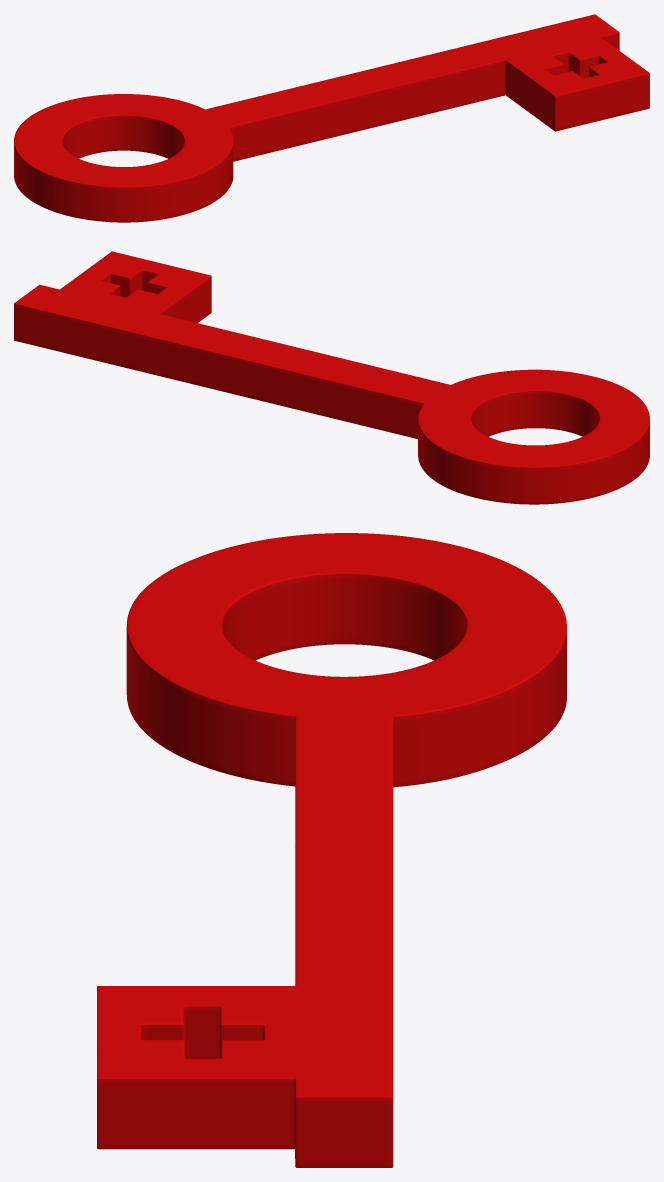
The picture shows the model from 3 angles, top to bottom: view 1: azimuth 30°, elevation 25°; view 2: azimuth 150°, elevation 25°; view 3: azimuth 270°, elevation 25°; orthographic projection. The views are drawn at different scales.
Parts seen in each view (by area): view 1: Curve.001; view 2: Curve.001; view 3: Curve.001.
Part boxes in pixels (x1,y1,x2,y2): Curve.001: (14,14,649,222); Curve.001: (14,251,649,504); Curve.001: (97,533,566,1167).
Bounding box in the file's own units: 1.03 × 0.061 × 0.364.
